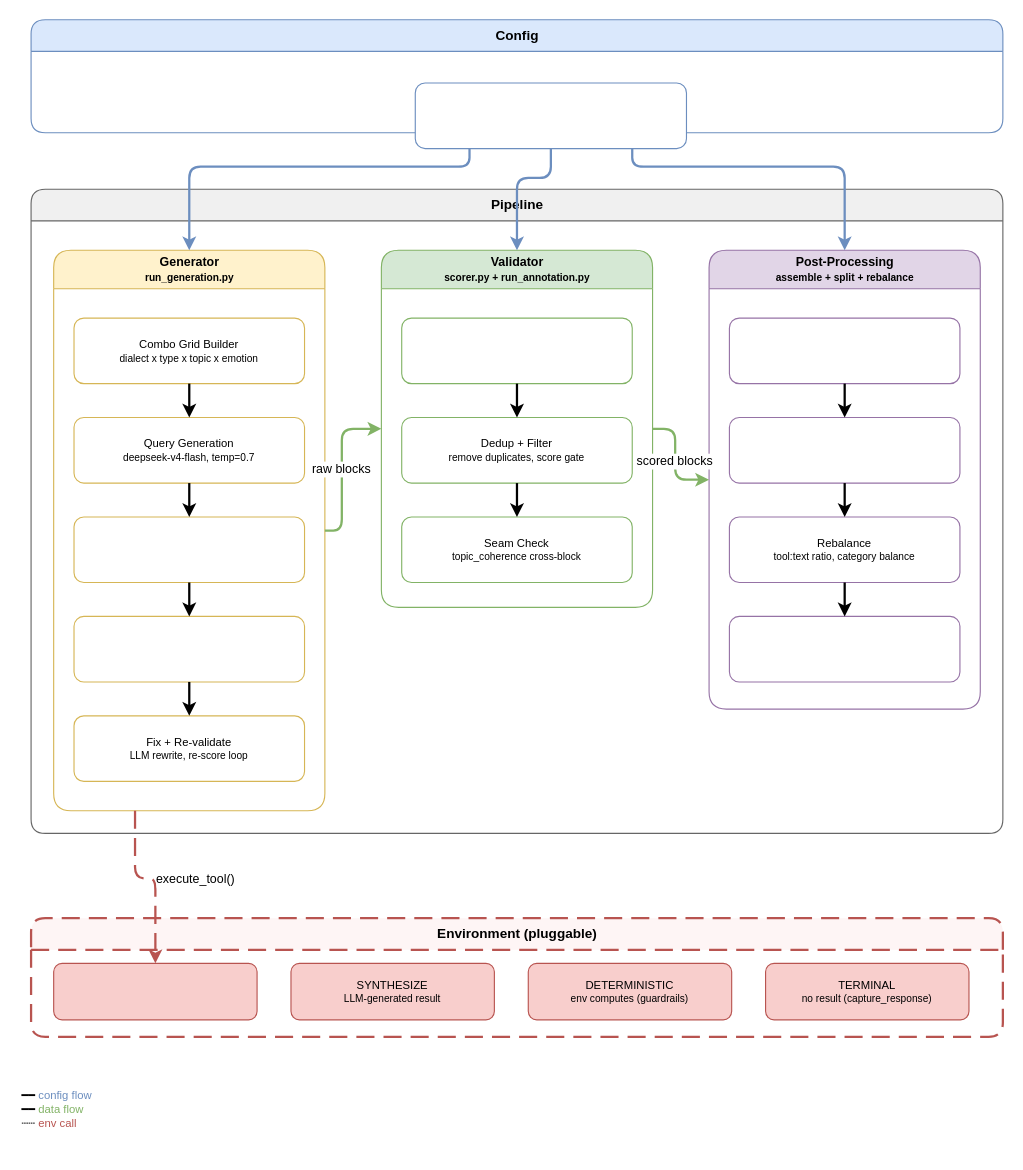
Image size: 1023x1170. Some labels were removed from this diagram. Each missing label, with the centre of its shape:
"Analysis dataset quality report" belongs at [844,648].
"Answer Decision tool_choice=auto, temp=0.3" belongs at [189,549].
"Assemble Blocks stitch blocks into conversations" belongs at [844,350].
"EXECUTE real DB (Postgres)" belongs at [155,991].
"generation_plan_*.yaml env, models, taxonomy, pipeline stages" belongs at [550,115].
"LLM Scorer rubric-driven judge, mean>=8 gate" belongs at [516,350].
"Tool Result + Response dispatch by ToolBehavior enum" belongs at [189,648].
"Train/Val/Eval Split configurable ratios" belongs at [844,449].
